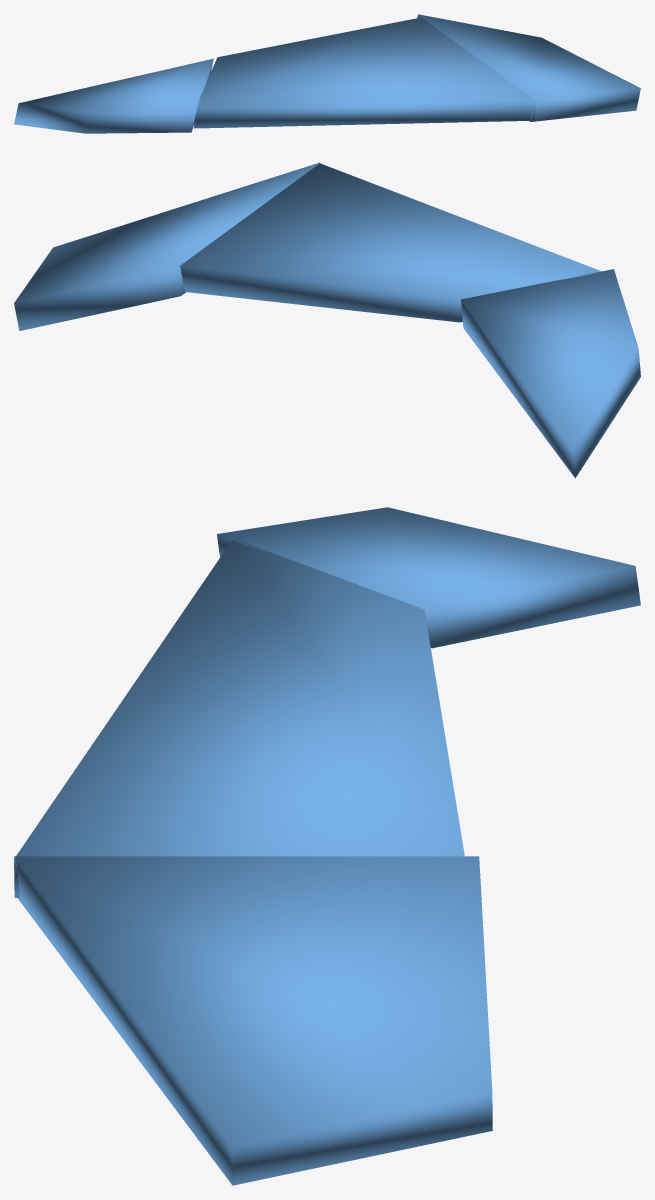
File: rightWing.glb
3 renders of one model, top to bottom at view 1: azimuth 30°, elevation 25°; view 2: azimuth 150°, elevation 25°; view 3: azimuth 270°, elevation 25°, orthographic. The views are drawn at different scales.
Parts seen in each view (by area): view 1: rightWingTip; view 2: rightWingTip; view 3: rightWingTip.
Part boxes in pixels (x1,y1,x2,y2): rightWingTip: (14,14,640,133); rightWingTip: (14,162,640,478); rightWingTip: (14,507,640,1185).
Size of the model in its own units: 3.29 by 0.6631 by 1.71.
